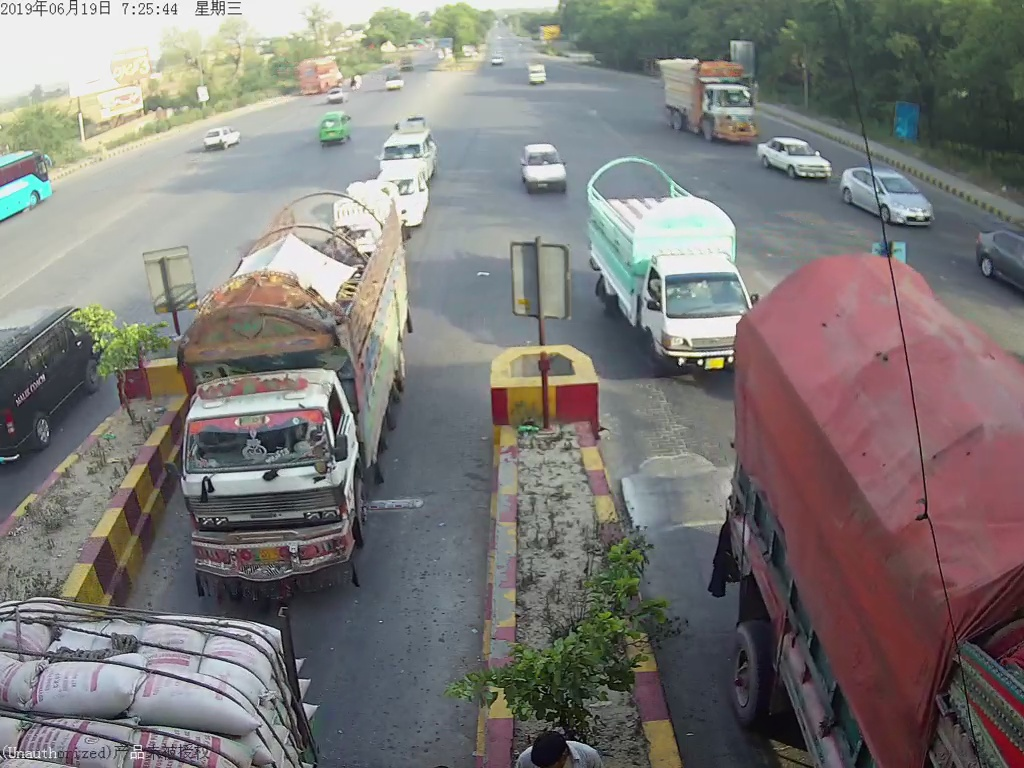Cat-2: (593, 131, 727, 369)
Cat-4: (755, 236, 1014, 768), (186, 188, 412, 607)
